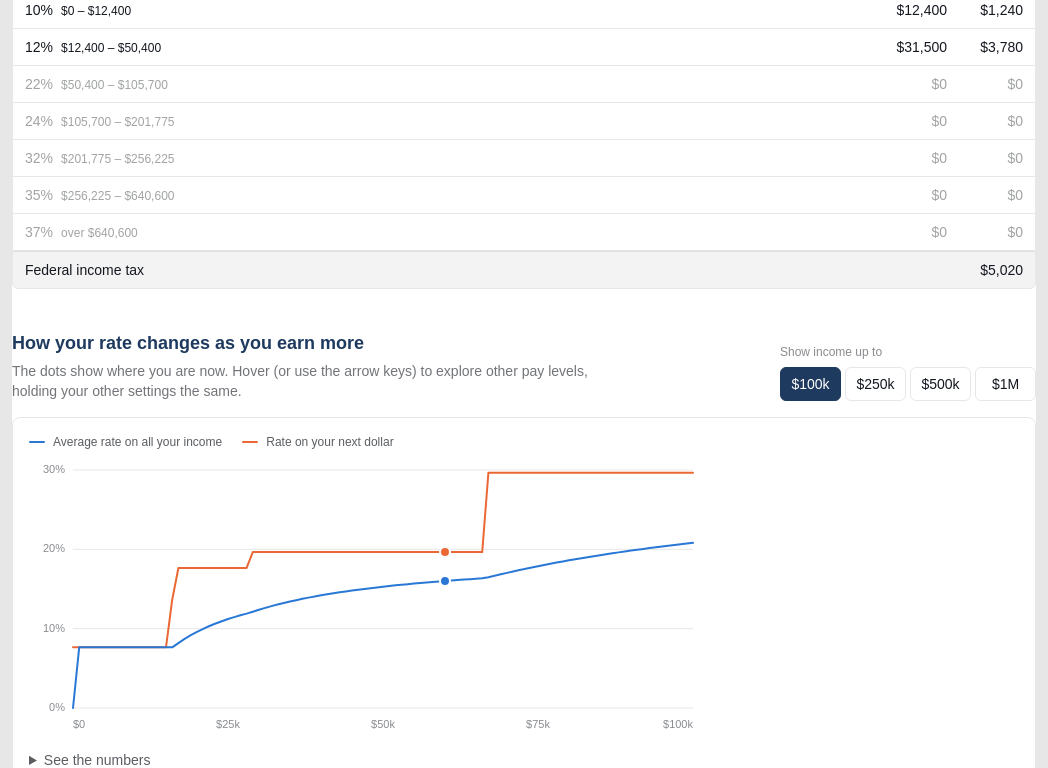
Scenario: Income Tax Calculator › explains the Social Security cap dip, and marks it once the range reaches it
(page scrolled)
Click the button "$250k".
click(876, 384)  # box [845, 367, 906, 401]
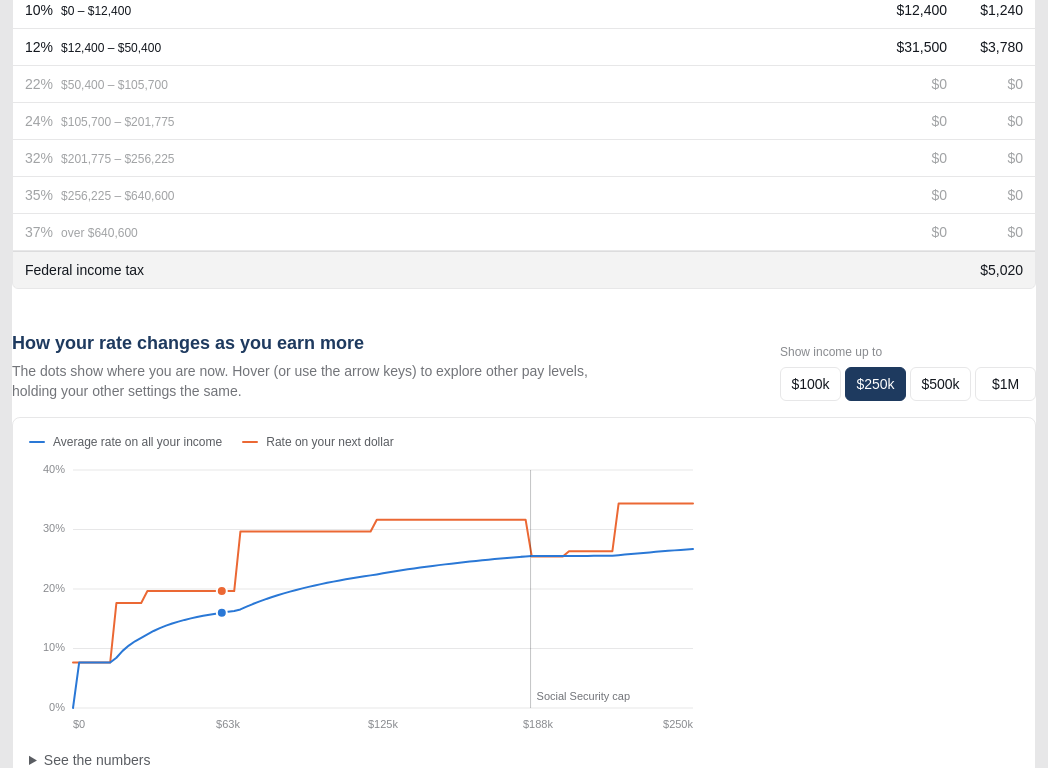
Now the text "Social Security cap" is shown, box [537, 690, 630, 702]
